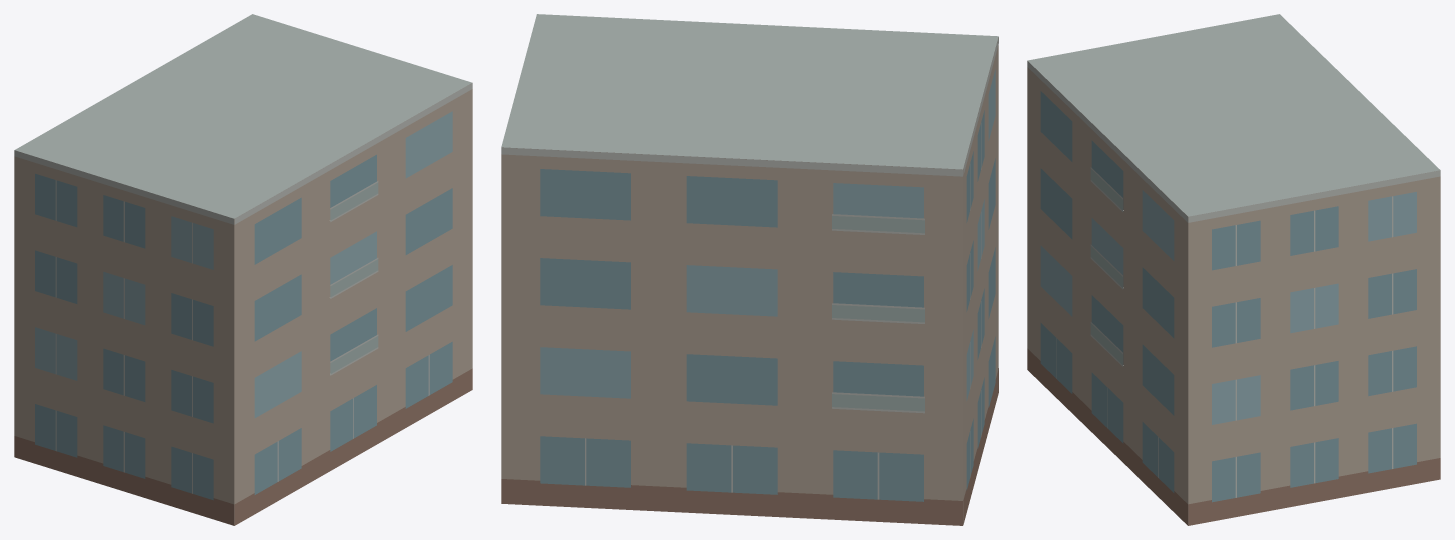
The model's file is residential-7abcd837-d27f-4775-ae4a-b997b38234b9.glb.
3 renders of one model, left to right at view 1: azimuth 30°, elevation 25°; view 2: azimuth 150°, elevation 25°; view 3: azimuth 270°, elevation 25°, orthographic. The views are drawn at different scales.
Visible parts, largest first — view 1: residential-7abcd837-d27f-4775-ae4a-b997b38234b9.tmp; view 2: residential-7abcd837-d27f-4775-ae4a-b997b38234b9.tmp; view 3: residential-7abcd837-d27f-4775-ae4a-b997b38234b9.tmp.
Part boxes in pixels (left/top/right/bottom): residential-7abcd837-d27f-4775-ae4a-b997b38234b9.tmp: left=14, top=14, right=472, bottom=525; residential-7abcd837-d27f-4775-ae4a-b997b38234b9.tmp: left=501, top=14, right=998, bottom=525; residential-7abcd837-d27f-4775-ae4a-b997b38234b9.tmp: left=1027, top=14, right=1440, bottom=525.
Bounding box in the file's own units: 17.17 × 12.2 × 14.79.
